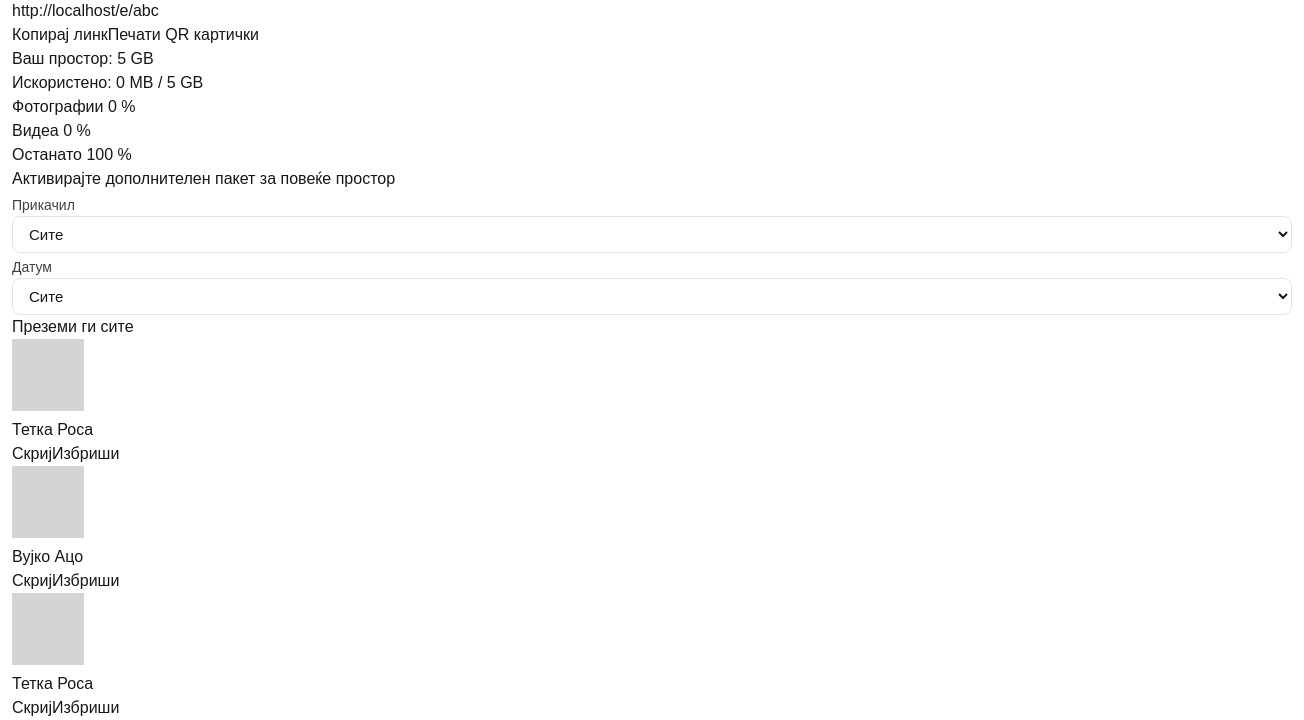
Test: AlbumClient › hides a photo and marks it as hidden
(page scrolled)
Click the button "Скриј" below "Вујко Ацо": (32, 581) [12,569,52,593]
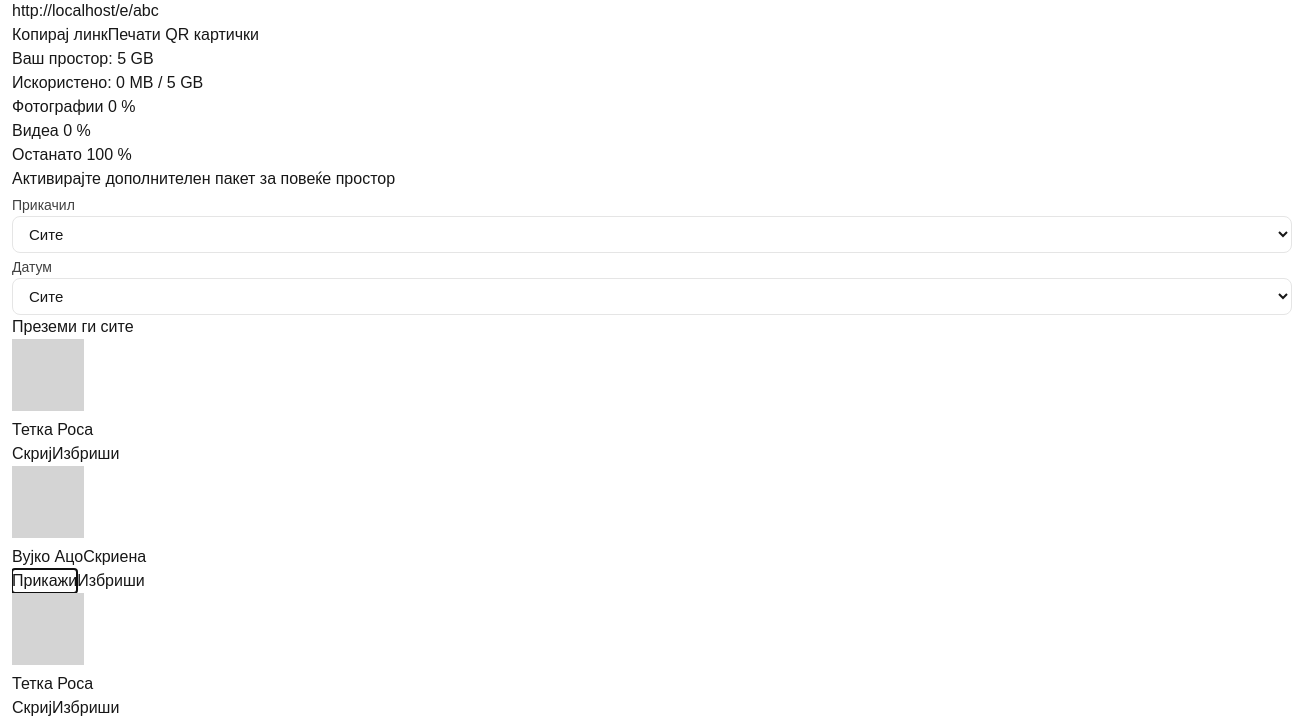
Check: the text "Скриена" is shown, box [83,548,146,565]
Check: the button "Прикажи" is shown, box [12,569,77,593]
